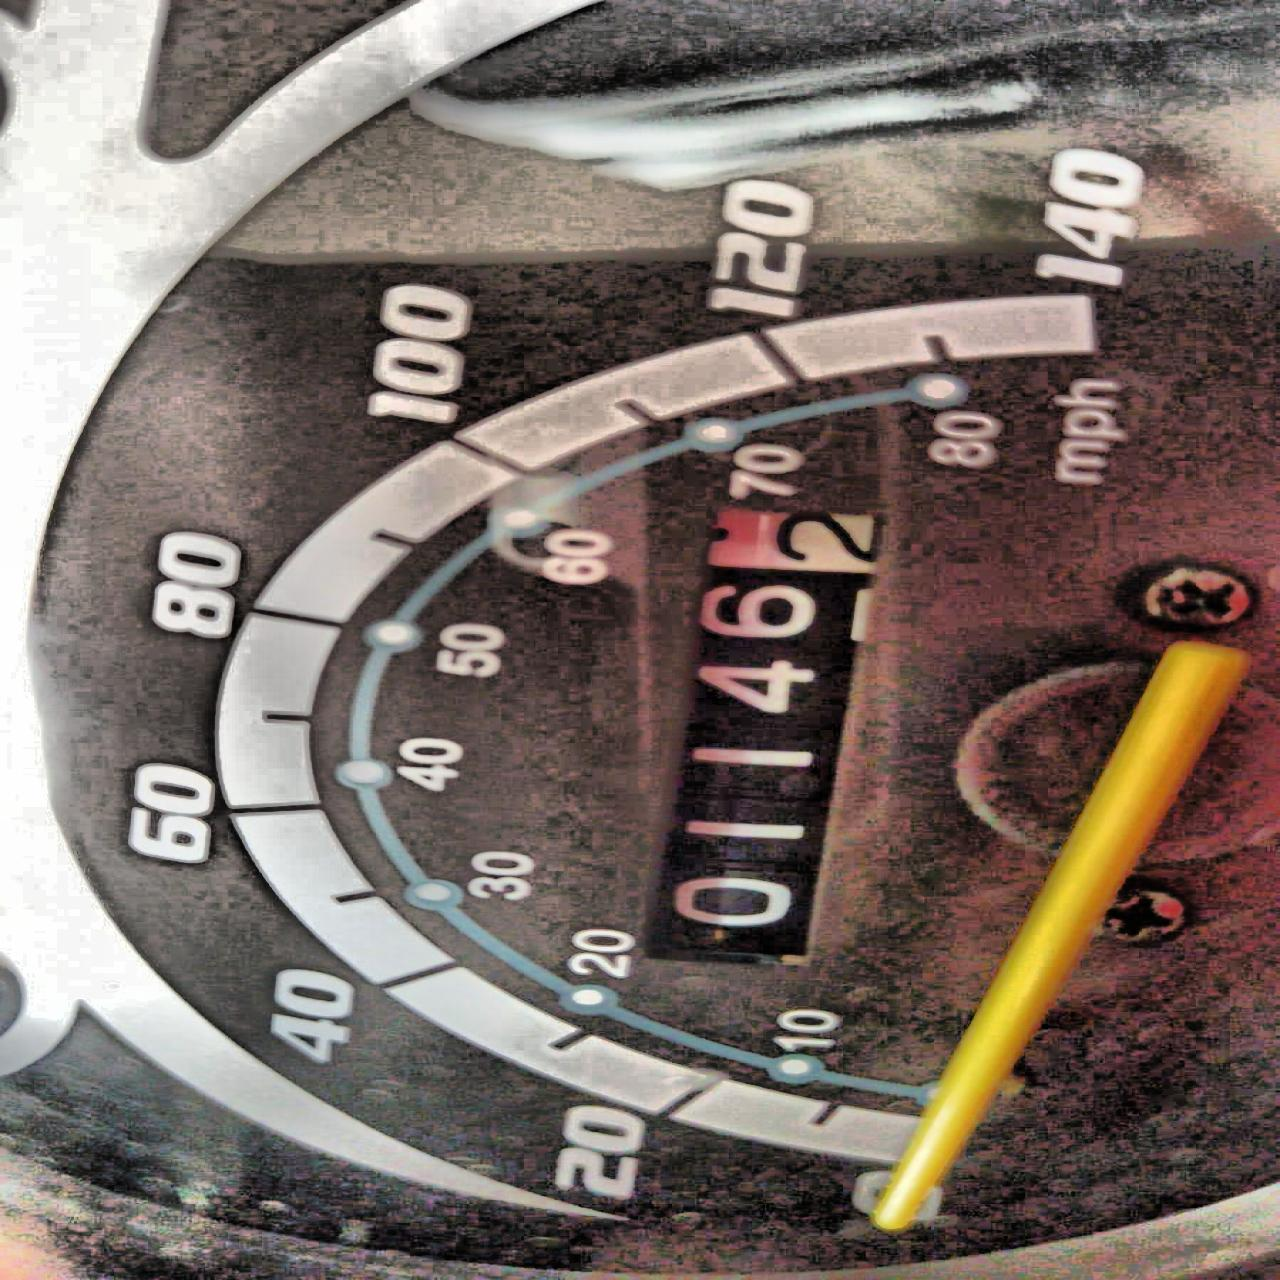0: (656, 874, 815, 927)
1: (656, 735, 842, 771), (665, 808, 835, 845)
2: (750, 506, 886, 564)
4: (675, 651, 839, 710)
6: (682, 577, 822, 644)
odometer: (632, 493, 896, 964)
